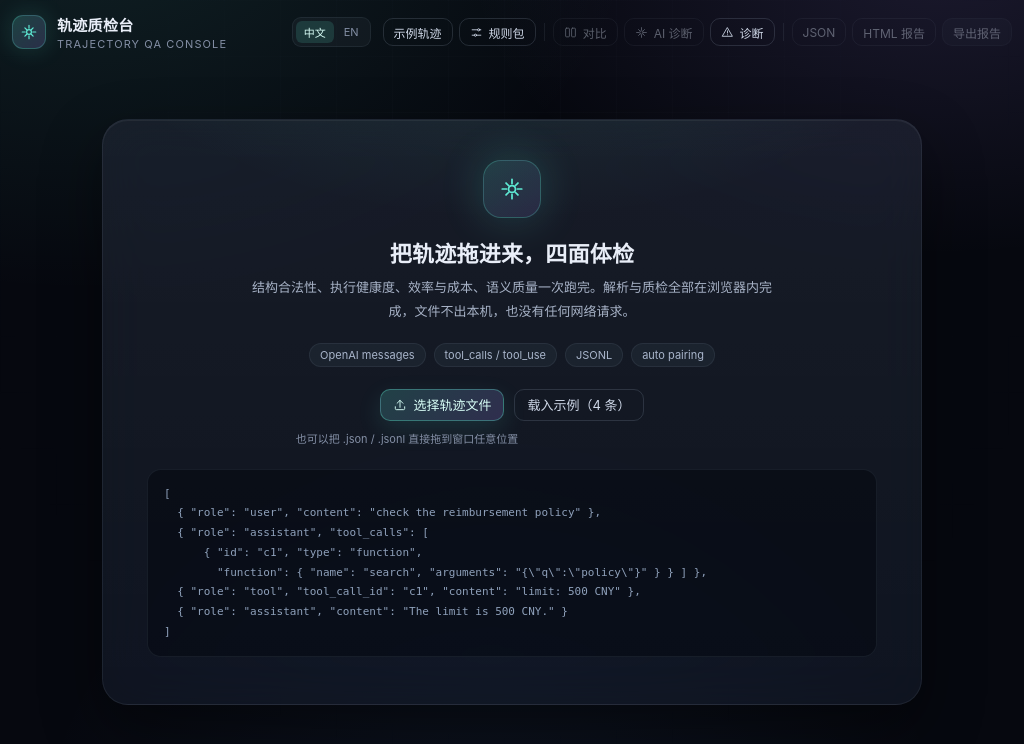
Test: App smoke › keeps topbar labels distinct once AI diagnosis is enabled
The image size is (1024, 744).
Click the button "载入示例（4 条）": click(579, 405) x1=514 y1=389 x2=644 y2=421
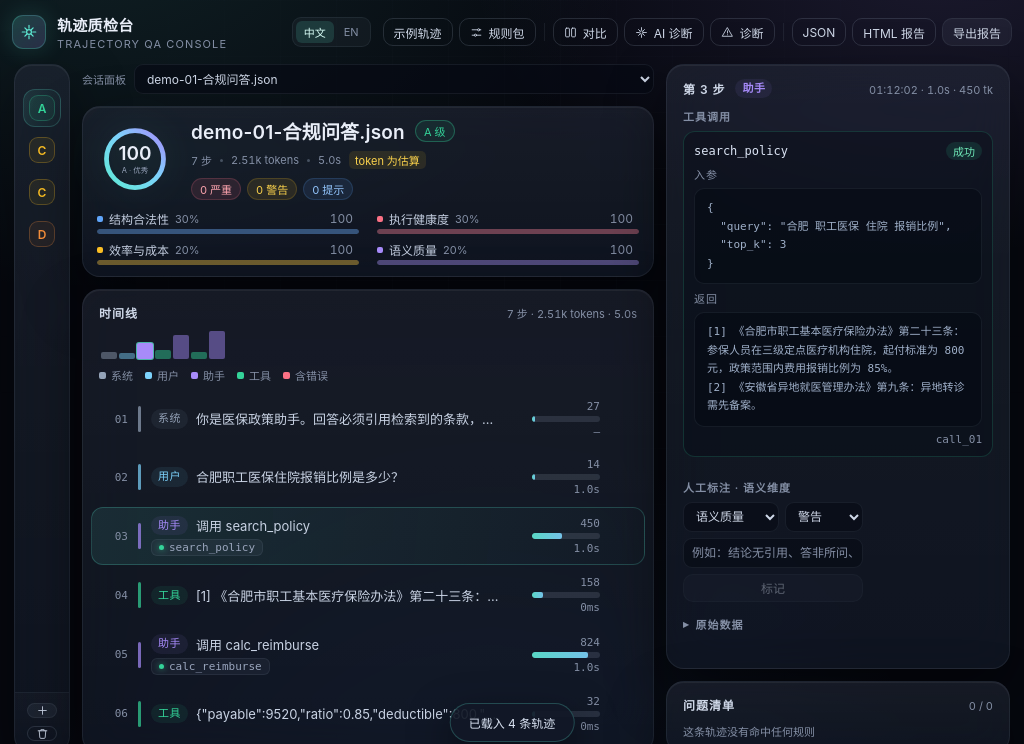
Check: the text "时间线" is shown, box x1=99 y1=304 x2=138 y2=321
